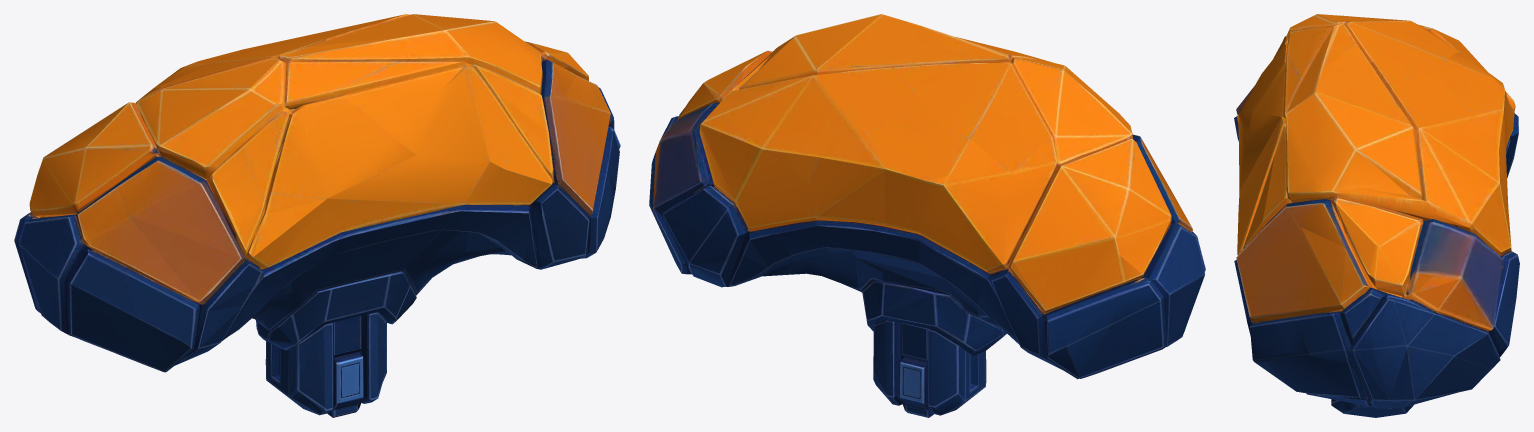
3 renders of one model, left to right at view 1: azimuth 30°, elevation 25°; view 2: azimuth 150°, elevation 25°; view 3: azimuth 270°, elevation 25°, orthographic. The views are drawn at different scales.
Parts seen in each view (by area): view 1: output_unwrapped; view 2: output_unwrapped; view 3: output_unwrapped.
Part boxes in pixels (left/top/right/bottom): output_unwrapped: left=14, top=14, right=620, bottom=417; output_unwrapped: left=649, top=14, right=1205, bottom=417; output_unwrapped: left=1234, top=14, right=1519, bottom=417.
Size of the model in its own units: 1.9 by 1.21 by 0.8809.
Materials: 1 (1 with a texture image).
